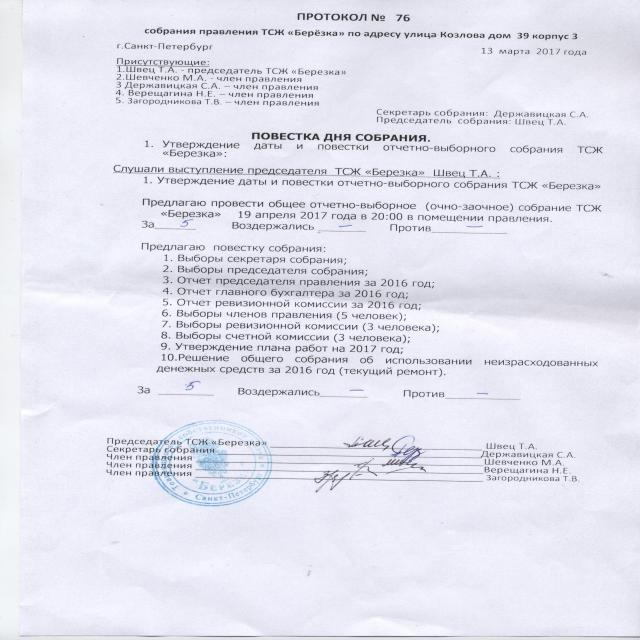stamps: (58, 387, 382, 541)
